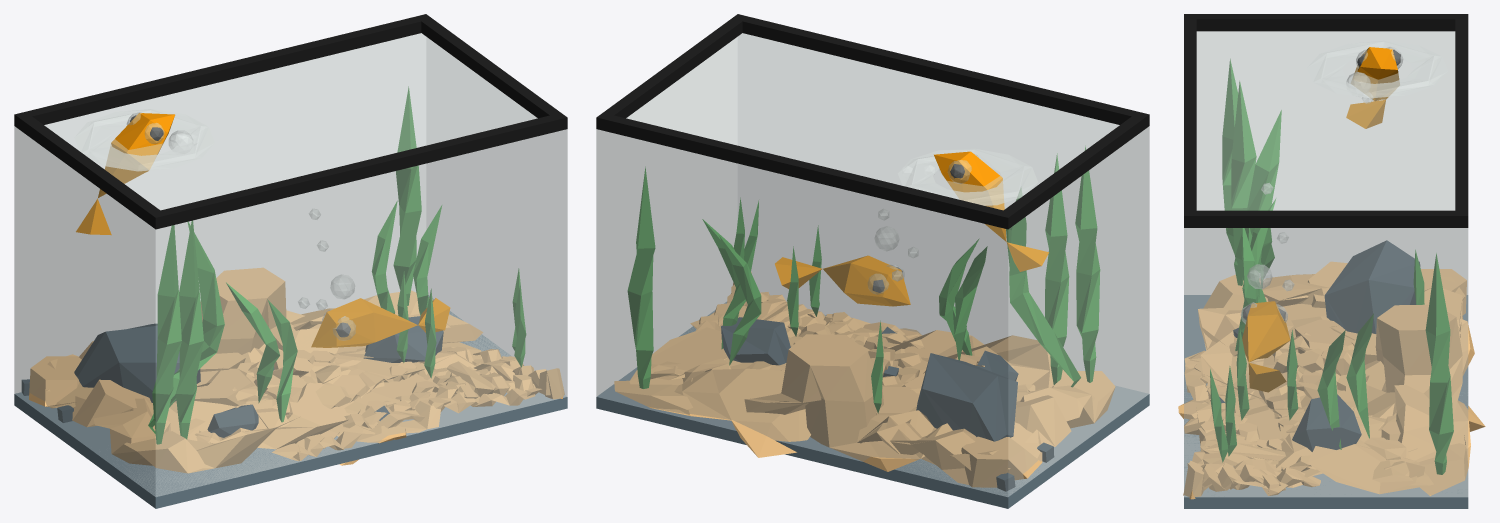
Rendered from nature-fish-tank-241.glb.
3 views of the same model, side by side, from view 1: azimuth 30°, elevation 25°; view 2: azimuth 150°, elevation 25°; view 3: azimuth 270°, elevation 25° (orthographic).
Visible parts, largest first — view 1: Node; view 2: Node; view 3: Node.
Boxes of the visible parts, bbox=[...] form: Node: bbox=[14, 14, 567, 508]; Node: bbox=[596, 14, 1149, 508]; Node: bbox=[1178, 14, 1485, 508].
Size of the model in its own units: 0.7466 by 0.531 by 0.4756.
